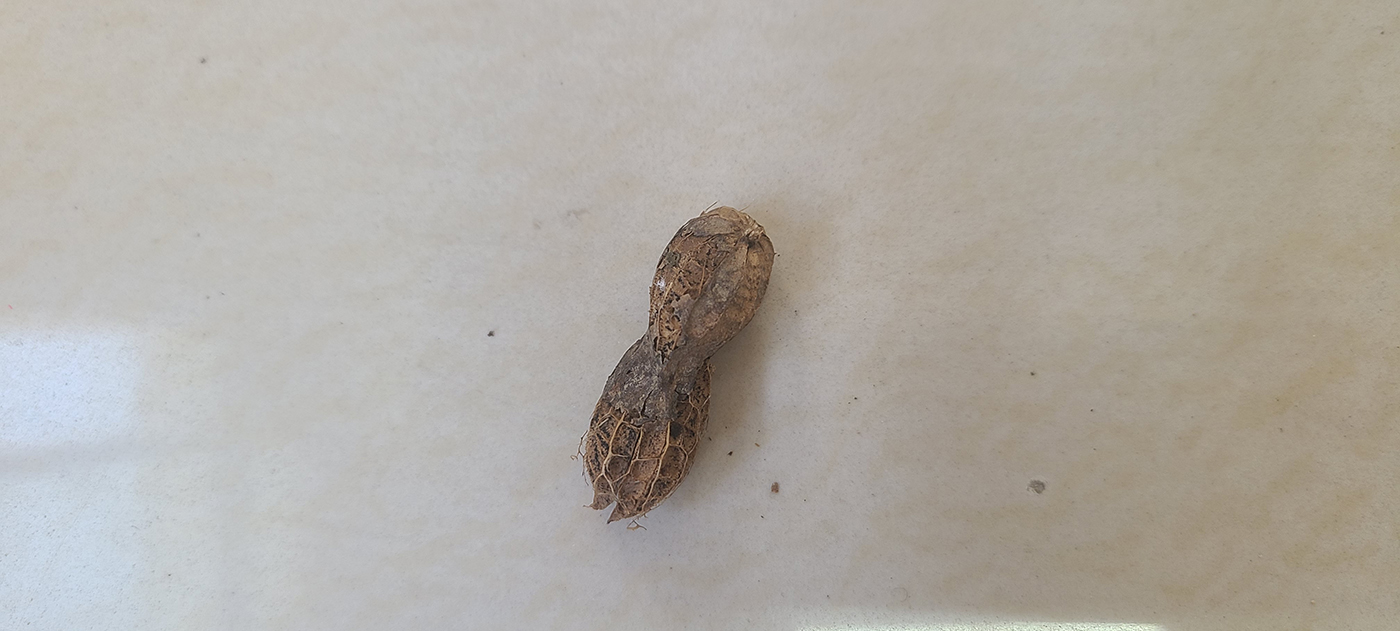l: (576, 203, 780, 519)
